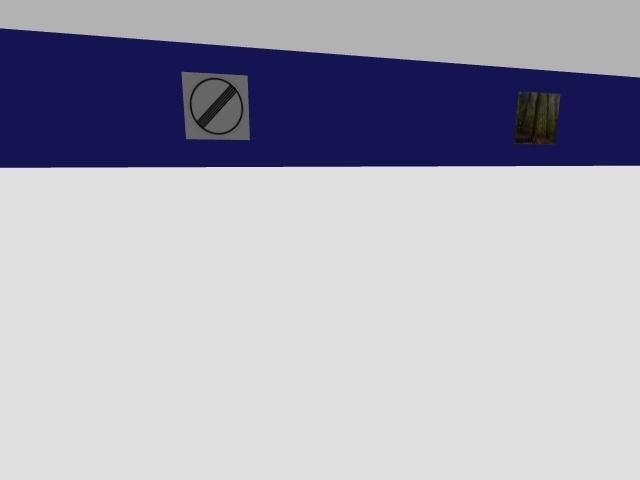fastsign: (182, 72, 248, 140)
tree: (530, 93, 541, 143), (520, 92, 530, 127), (553, 94, 559, 138), (546, 94, 550, 138)
